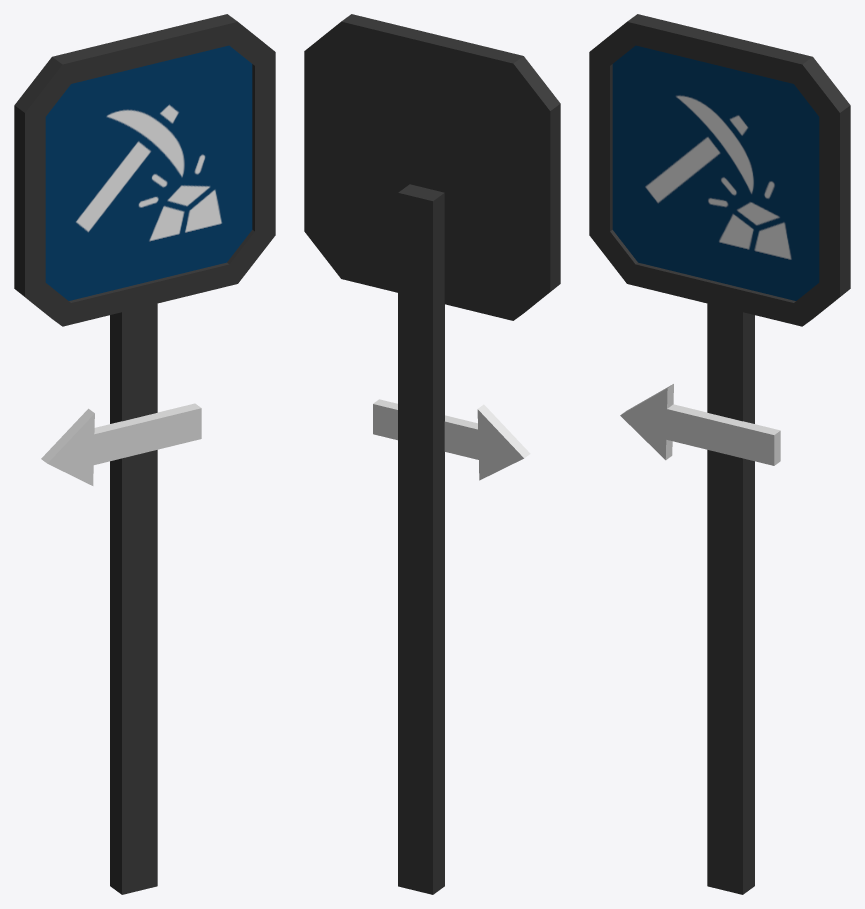
Rendered from mining_sign (1).fbx.
The picture shows the model from 3 angles, left to right: view 1: azimuth 30°, elevation 25°; view 2: azimuth 150°, elevation 25°; view 3: azimuth 330°, elevation 25°; orthographic projection.
Visible parts, largest first — view 1: polySurface72, pCube2, polySurface73, pCube5; view 2: polySurface73, pCube2, pCube5; view 3: polySurface72, pCube2, polySurface73, pCube5.
Part boxes in pixels (x1,y1,x2,y2): polySurface72: (45, 45, 252, 300); pCube2: (110, 303, 157, 894); polySurface73: (14, 14, 275, 326); pCube5: (41, 403, 201, 485); polySurface73: (304, 14, 560, 320); pCube2: (398, 184, 444, 894); pCube5: (373, 399, 530, 480); polySurface72: (612, 45, 819, 300); pCube2: (707, 303, 754, 894); polySurface73: (589, 14, 850, 326); pCube5: (620, 384, 780, 465).
Bounding box in the file's own units: 55.77 × 182 × 8.68.
